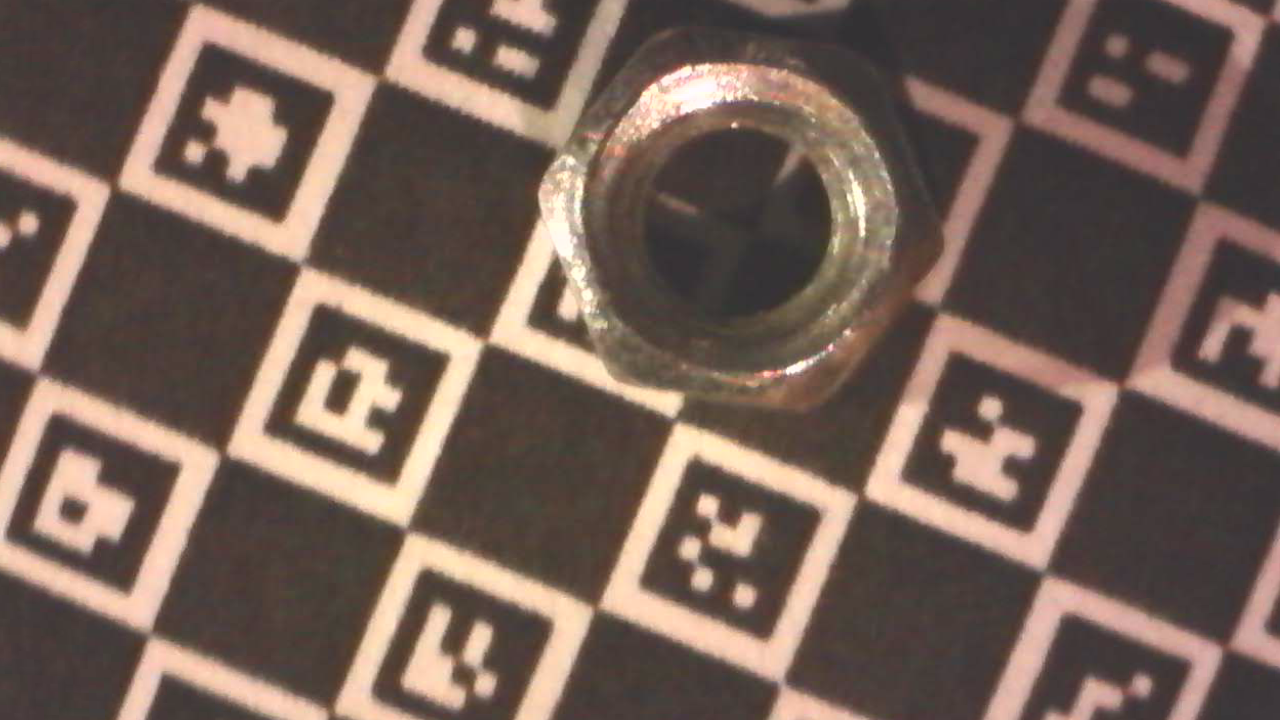Bolt: (535, 29, 948, 415)
